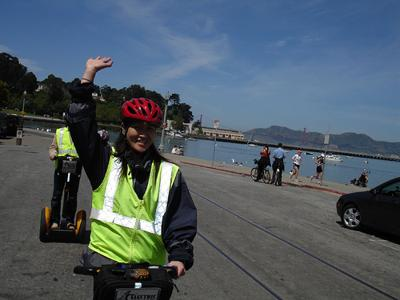person: (66, 56, 198, 300)
